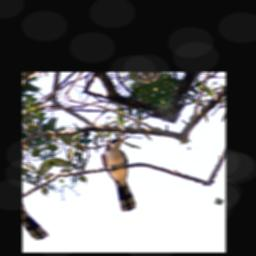Cuckoo: (84, 134, 166, 215)
